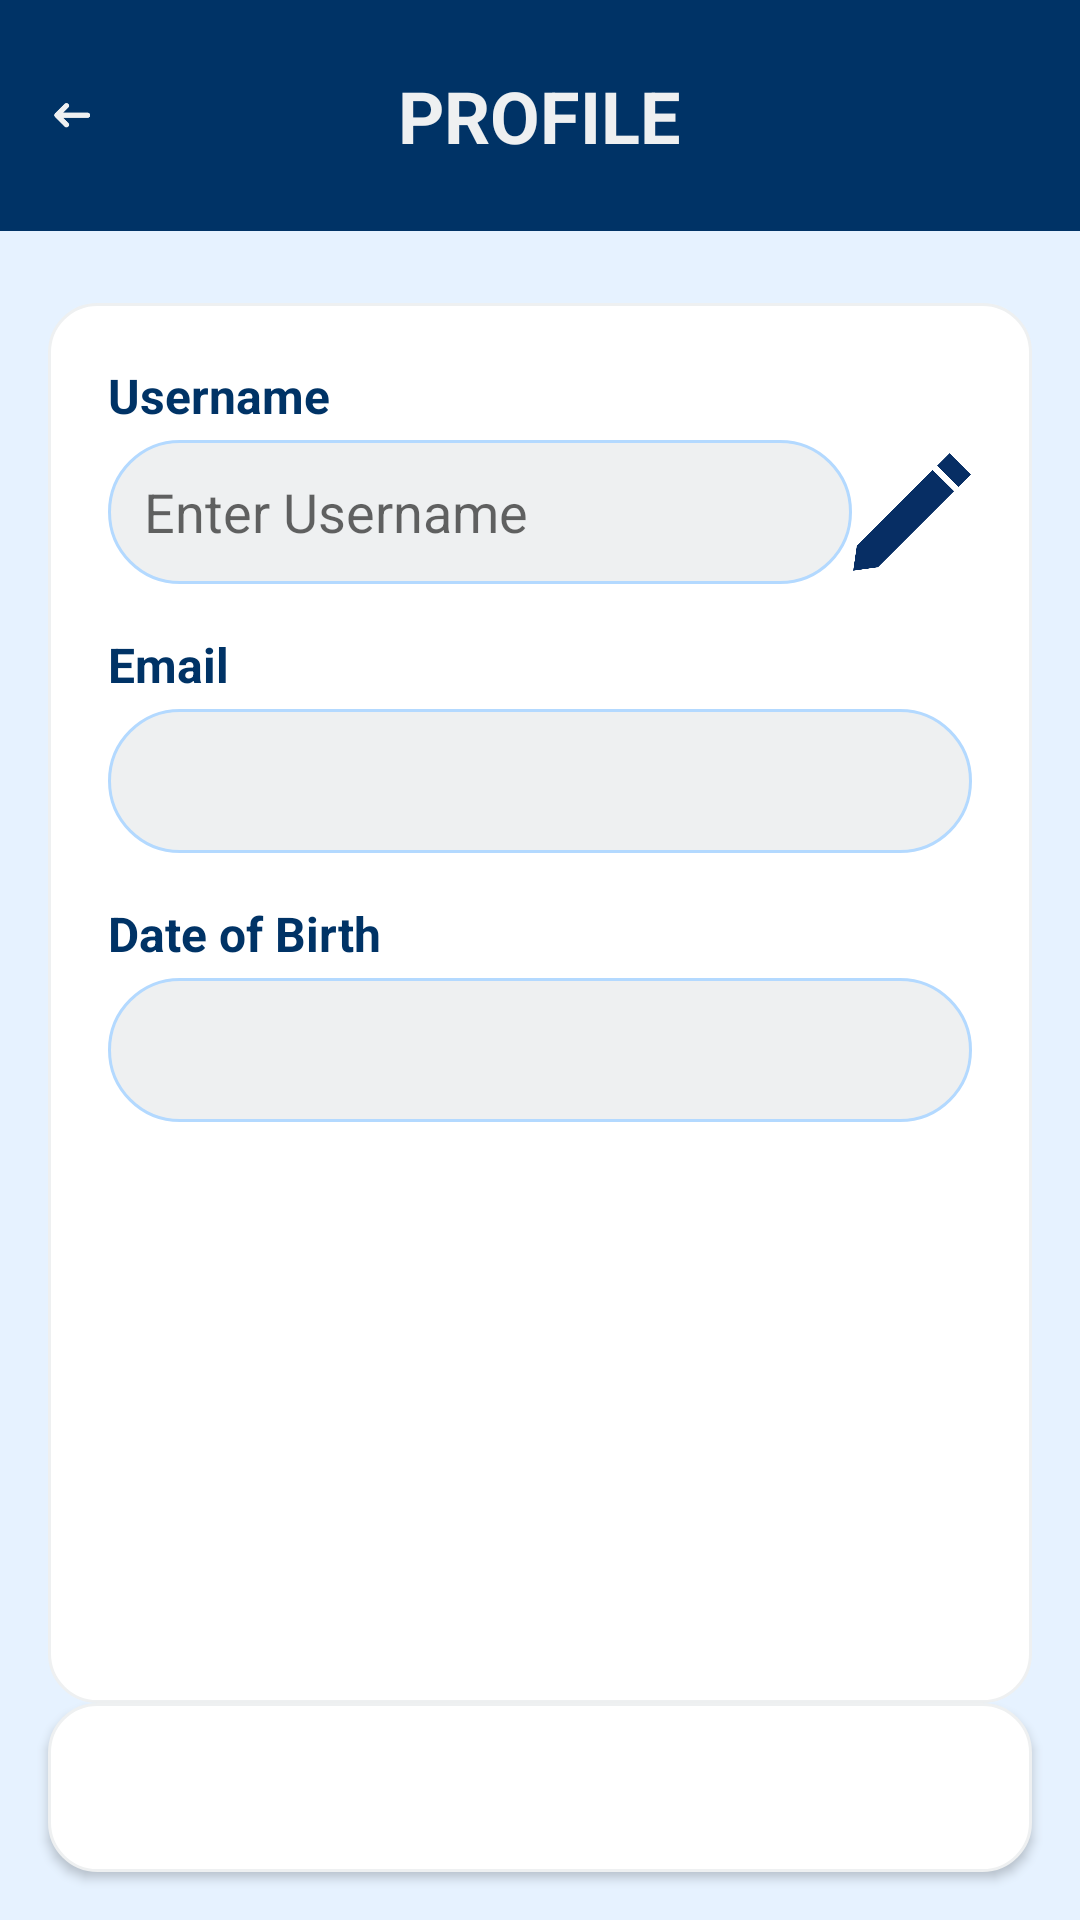

Named icons in this screenshot (1080w x 1920h) and their bounding boxes, Rect(x1, y1, x2, y2):
Back: Rect(54, 103, 90, 128)
Edit Username: Rect(853, 453, 971, 571)
